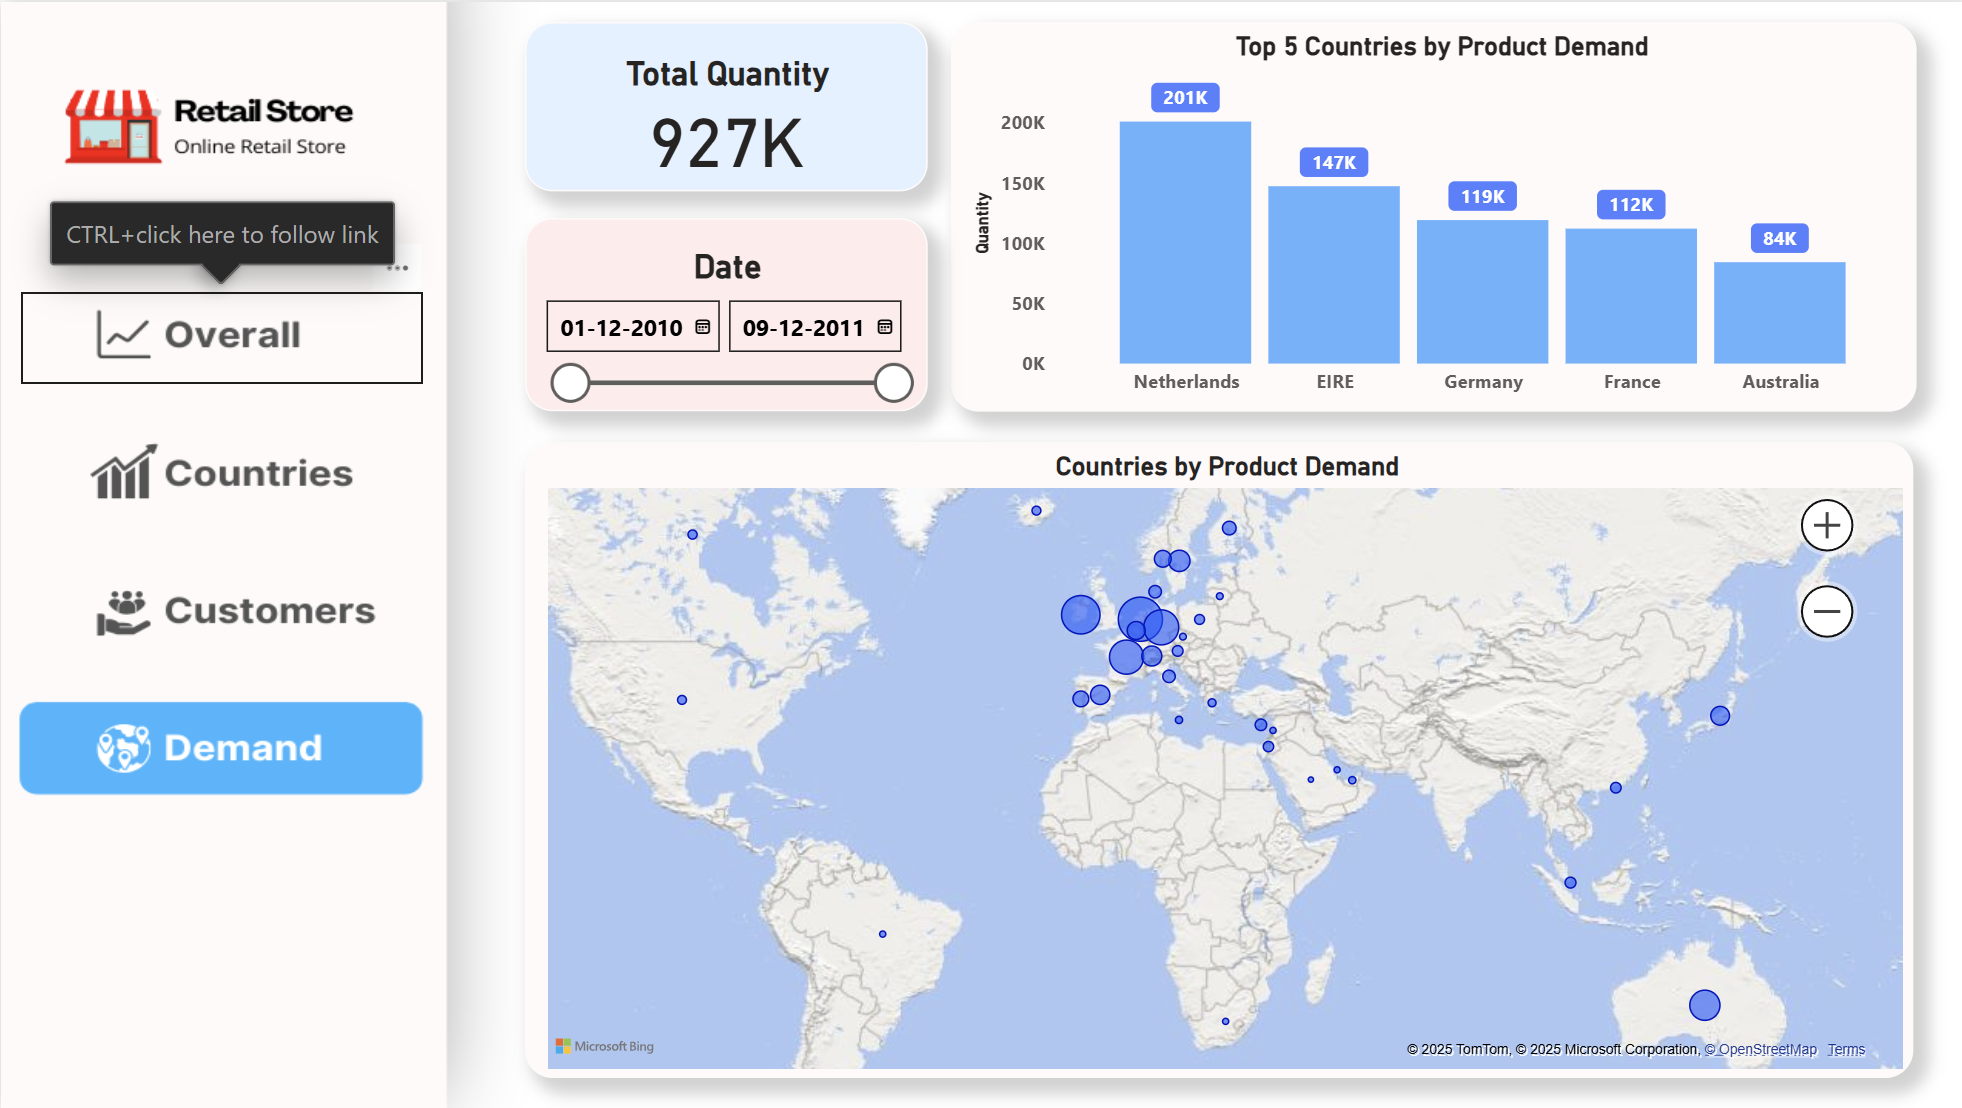

Layout of this report page (visuals, bound fields, positions):
{"tool":"powerbi","page":{"name":"Q.4","canvas":[1280,720],"ordinal":3},"visuals":[{"type":"actionButton","box":[13.3,276,261.3,60],"z":0},{"type":"actionButton","box":[13.3,366.7,261.3,60],"z":1000},{"type":"actionButton","box":[13.3,188,261.3,60],"z":2000},{"type":"map","title":"Countries by Product Demand ","fields":{"Category":["Retail.Country"],"Size":["Sum(Retail.Quantity)"]},"box":[340,285.7,901.4,412.9],"z":3000},{"type":"card","title":"Total Quantity","fields":{"Values":["Sum(Retail.Quantity)"]},"box":[340,12.9,261.4,110],"z":4000},{"type":"clusteredColumnChart","title":"Top 5 Countries by Product Demand","fields":{"Category":["Retail.Country"],"Y":["Sum(Retail.Quantity)"]},"box":[617.1,12.9,627.1,252.9],"z":5000},{"type":"slicer","title":"Date","fields":{"Values":["Retail.InvoiceDate"]},"box":[340,140,261.4,125.7],"z":6000}]}

Visuals, with their boxes on the page's 1280x720 design canvas (x1, y1, x2, y2). These are canvas units, not pixel positions in the 1962x1108 screenshot, which may show the page scaled, cropped or inside an application window:
actionButton: <region>13, 276, 275, 336</region>
actionButton: <region>13, 367, 275, 427</region>
actionButton: <region>13, 188, 275, 248</region>
"Countries by Product Demand " map: <region>340, 286, 1241, 699</region>
"Total Quantity" card: <region>340, 13, 601, 123</region>
"Top 5 Countries by Product Demand" clusteredColumnChart: <region>617, 13, 1244, 266</region>
"Date" slicer: <region>340, 140, 601, 266</region>
